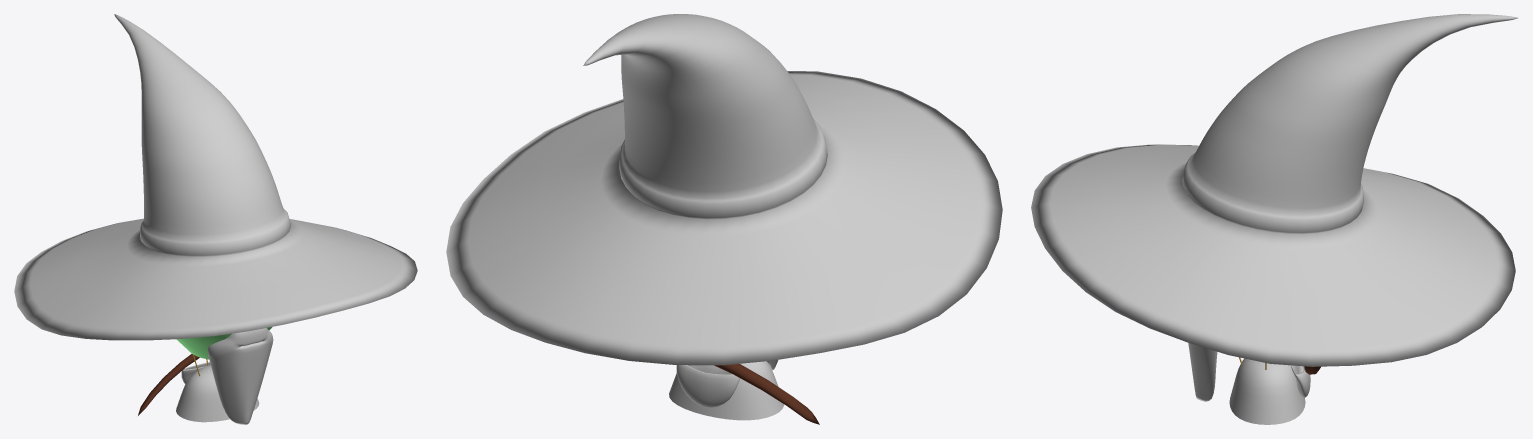
Rendered from Lv5_FB_Wizard.FBX.
The picture shows the model from 3 angles, left to right: view 1: azimuth 30°, elevation 25°; view 2: azimuth 150°, elevation 25°; view 3: azimuth 270°, elevation 25°; orthographic projection. The views are drawn at different scales.
Visible parts, largest first — view 1: Cylinder002, Box001, Box005, Sphere001, Line004; view 2: Cylinder002, Box005, Box004, Line004; view 3: Cylinder002, Box005, Box001.
Boxes of the visible parts, <box> form: Cylinder002: <box>14,14,417,340</box>; Box001: <box>207,328,273,424</box>; Box005: <box>176,365,259,422</box>; Sphere001: <box>177,327,272,359</box>; Line004: <box>138,354,199,415</box>; Cylinder002: <box>446,14,1002,365</box>; Box005: <box>669,361,783,420</box>; Box004: <box>676,365,740,407</box>; Line004: <box>714,364,819,424</box>; Cylinder002: <box>1031,14,1517,366</box>; Box005: <box>1229,358,1305,424</box>; Box001: <box>1188,343,1217,401</box>.
Bounding box in the file's own units: 334 × 292 × 333.
